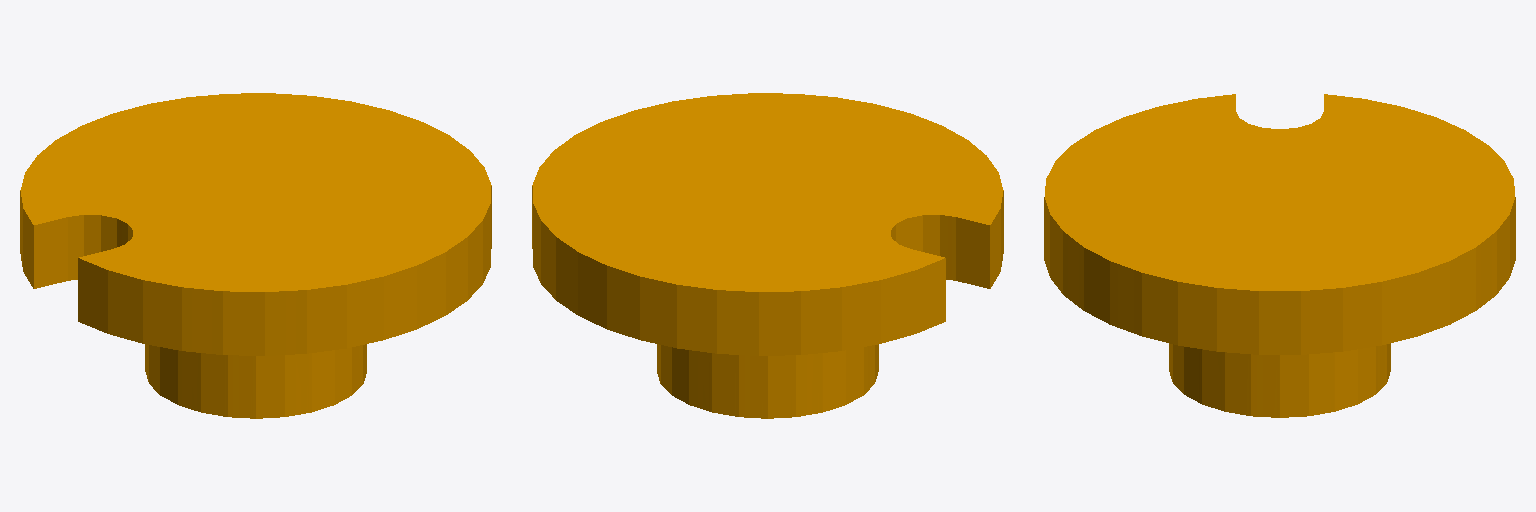
URDF robot description (00143_socket):
<?xml version="1.0"?>
<robot name="00143_socket">
	<link name="00143_socket">
		<visual>
			<geometry>
				<mesh filename="../mesh/00143/asset_socket.obj"/>
			</geometry>
		</visual>
		<collision>
			<geometry>
				<mesh filename="../mesh/00143/asset_socket.obj"/>
			</geometry>
			<sdf resolution="256"/>
		</collision>
	</link>
</robot>

--- Facts derived from the render (not from the file) ---
Views: 3 orthographic renders of the robot side by side, from view 1: azimuth 30°, elevation 25°; view 2: azimuth 150°, elevation 25°; view 3: azimuth 270°, elevation 25°.
Model 00143_socket with 1 links and 0 joints (none), rooted at 00143_socket, posed all joints at 0.
Visible links, largest first — view 1: 00143_socket; view 2: 00143_socket; view 3: 00143_socket.
Link boxes in pixels (left/top/right/bottom): 00143_socket: left=20, top=93, right=491, bottom=418; 00143_socket: left=532, top=93, right=1003, bottom=418; 00143_socket: left=1044, top=94, right=1515, bottom=417.
Bounding box of the posed robot: 0.0265 × 0.0268 × 0.0113 m (x, y, z).
1 mesh visuals loaded from 1 distinct referenced files (1 OBJ).
